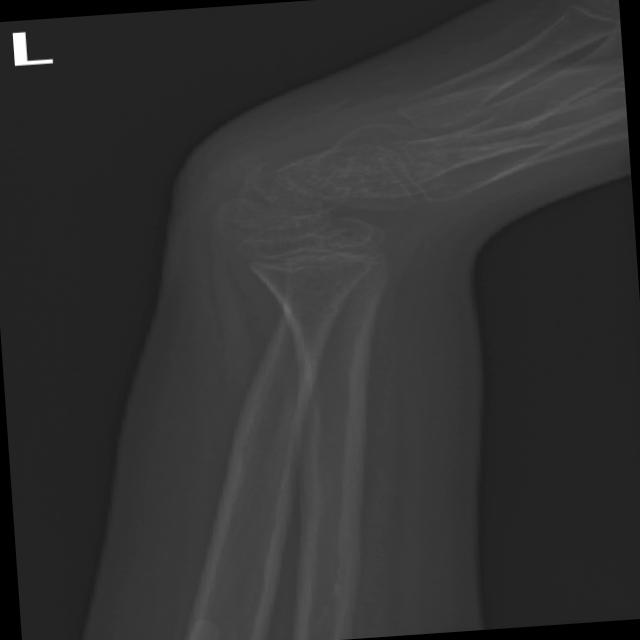wrist positive: (220, 235, 412, 286), (190, 147, 308, 223)
